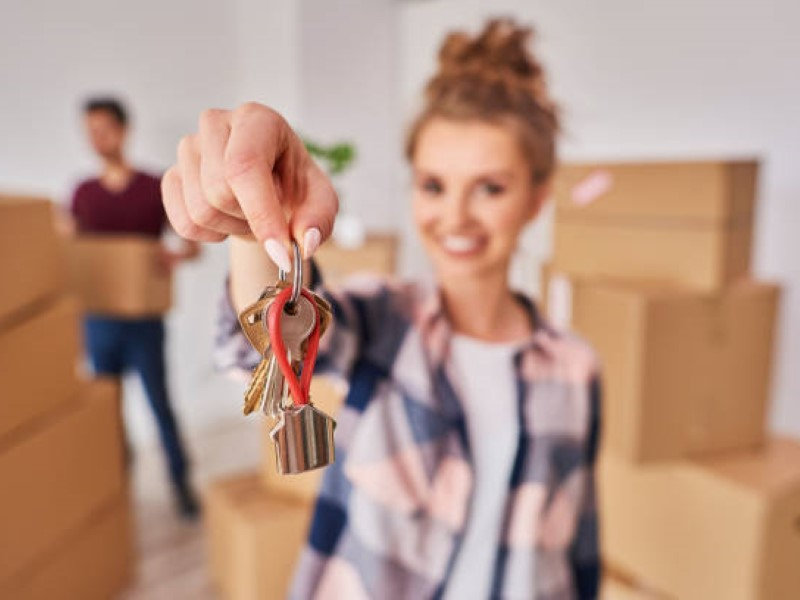key: (236, 279, 330, 422)
